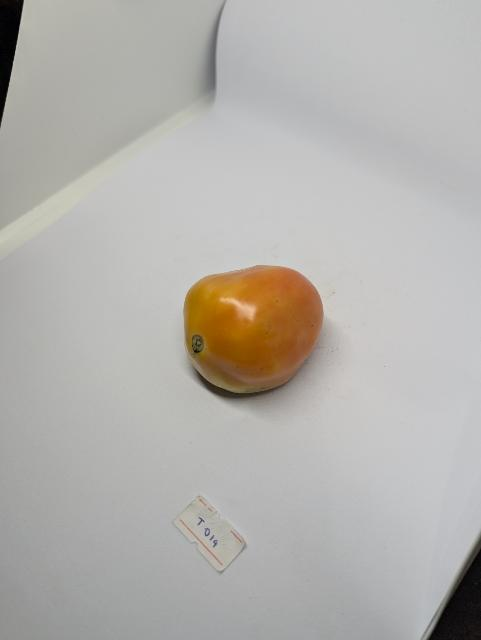turning: (176, 252, 327, 402)
